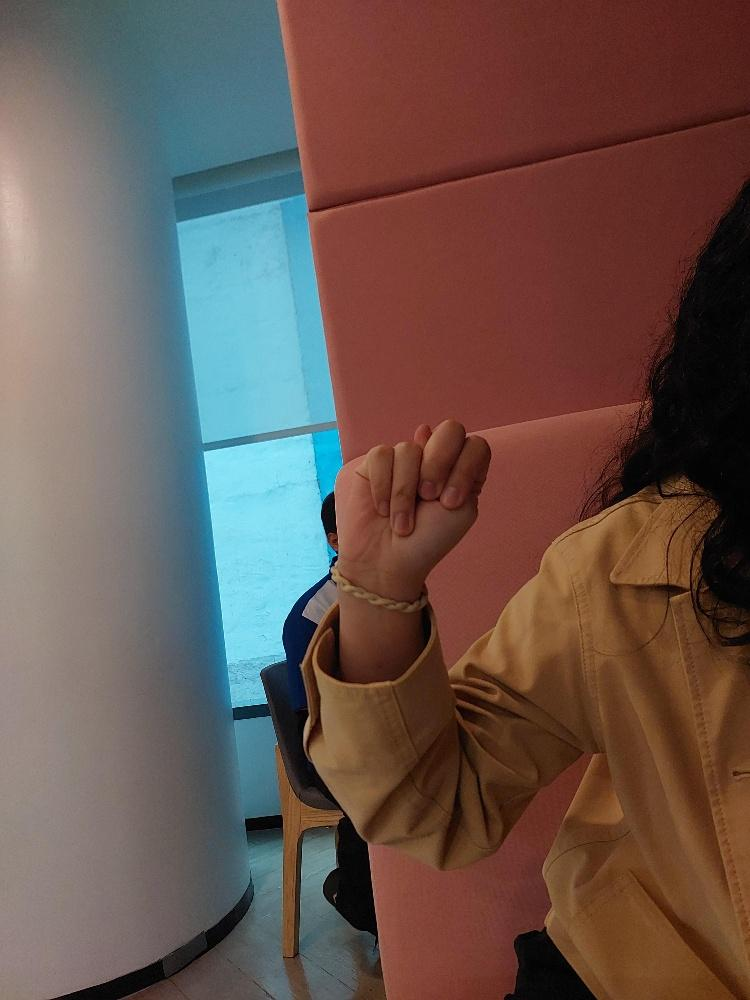n: (330, 405, 496, 607)
